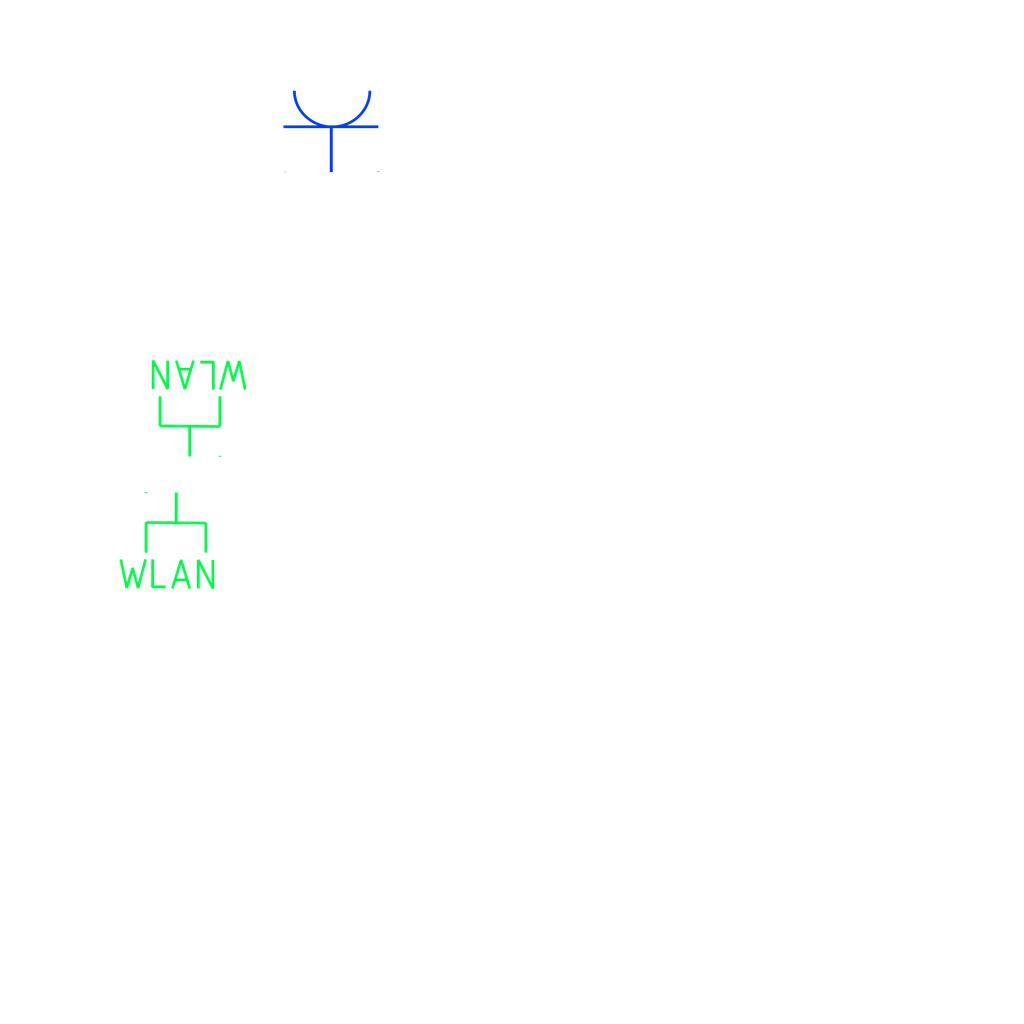Schukosteckdose_einfach: (282, 86, 382, 173)
WLAN: (147, 356, 252, 460), (114, 489, 219, 593)
